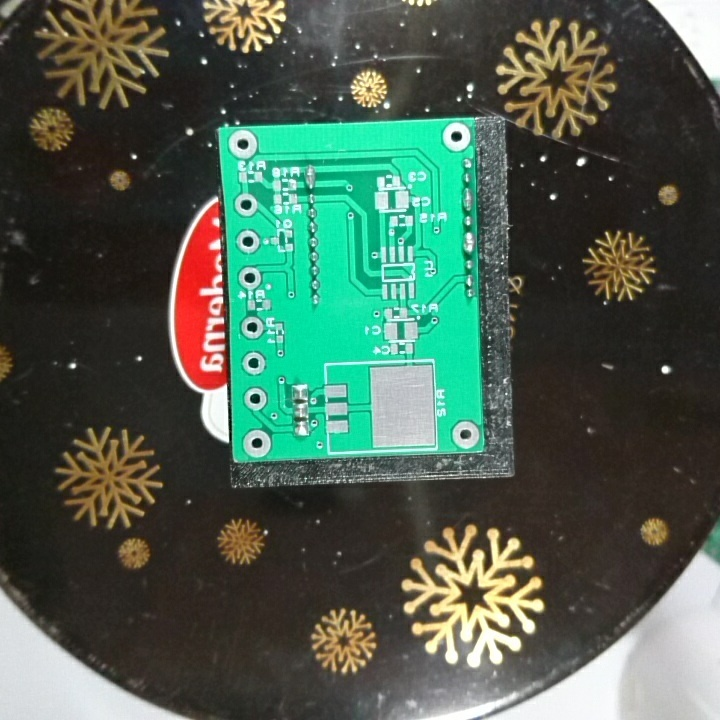F: (225, 128, 261, 161), (241, 427, 275, 459), (441, 120, 471, 153), (451, 418, 481, 450), (239, 349, 268, 377), (232, 190, 259, 218), (235, 227, 262, 255), (235, 264, 263, 291), (239, 314, 266, 342), (242, 386, 269, 412)
P: (459, 185, 476, 214), (460, 231, 476, 259), (303, 162, 318, 190)
